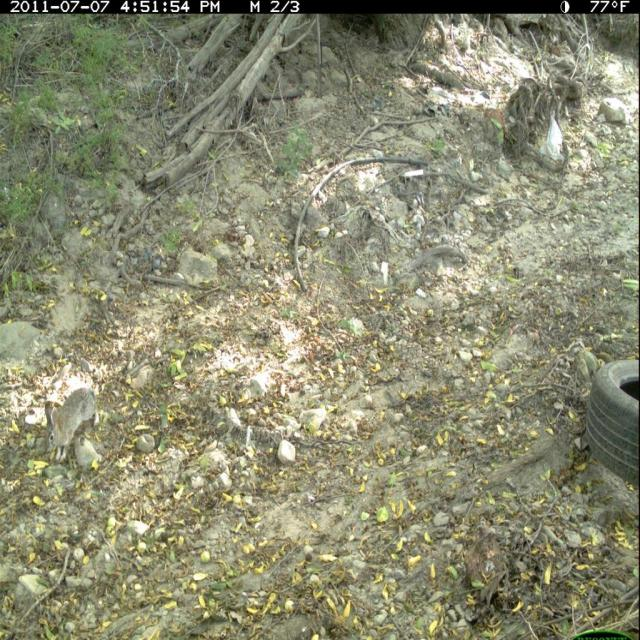rabbit: (38, 384, 105, 461)
